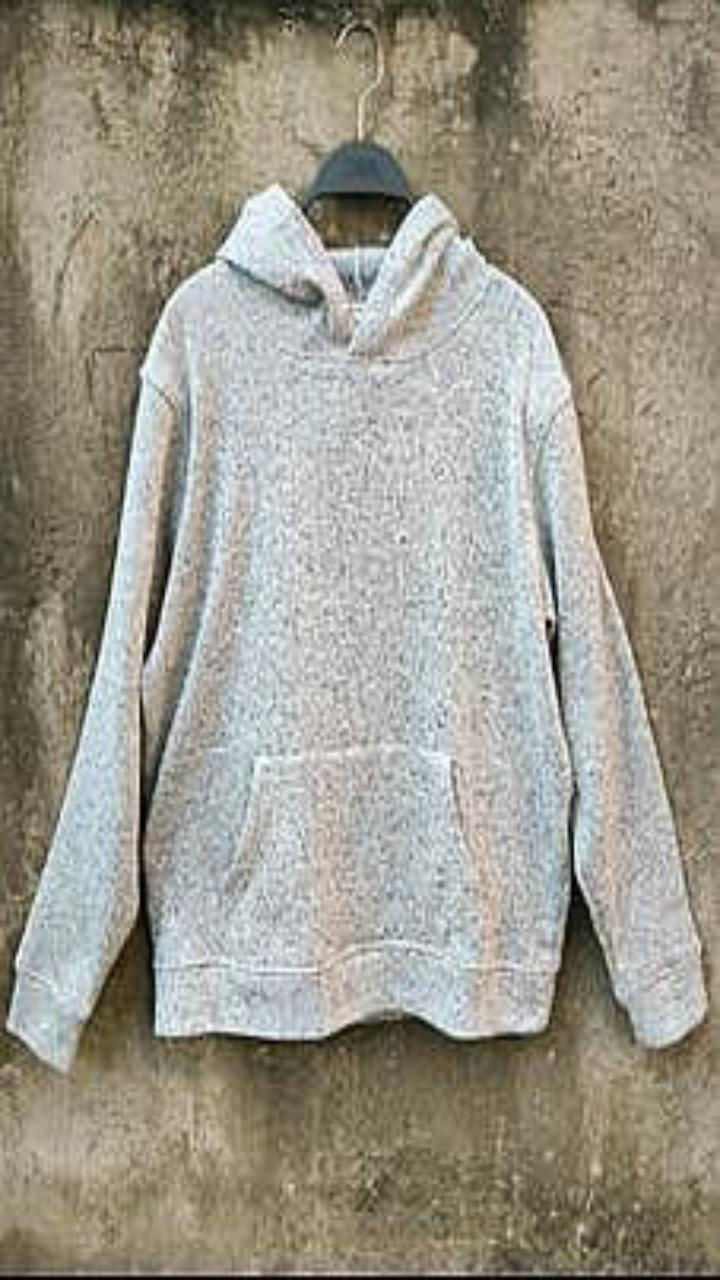Hoodie: (7, 183, 706, 1069)
